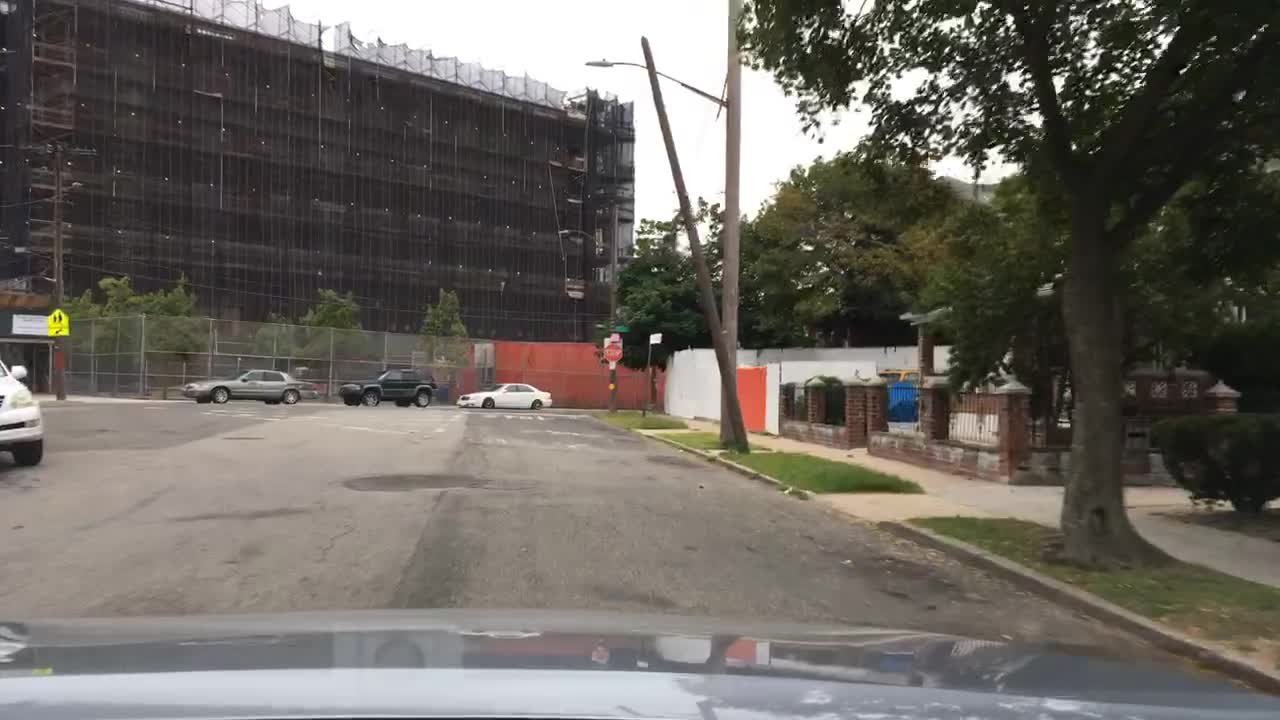car: (0, 348, 46, 469), (181, 367, 319, 403), (338, 366, 438, 409), (452, 379, 554, 412)
traffic sign: (44, 306, 70, 339), (471, 340, 498, 368), (600, 333, 623, 364)
